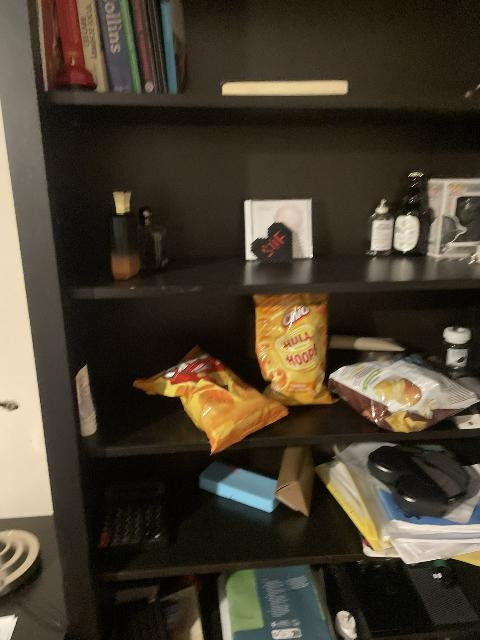Chio Cascaval 125g: (134, 343, 287, 454)
Chio Hula Hoops Cheese 70g: (252, 292, 338, 406)
Lays Beef Grilled Ribs 125g: (329, 353, 477, 432)
